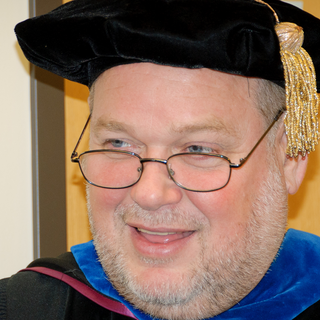eye: (176, 135, 221, 164), (96, 131, 141, 159)
